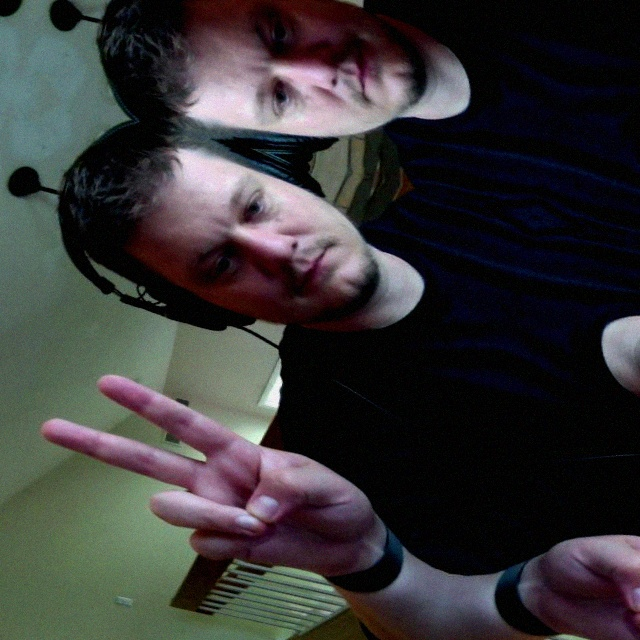Scissors: (8, 355, 408, 609)
